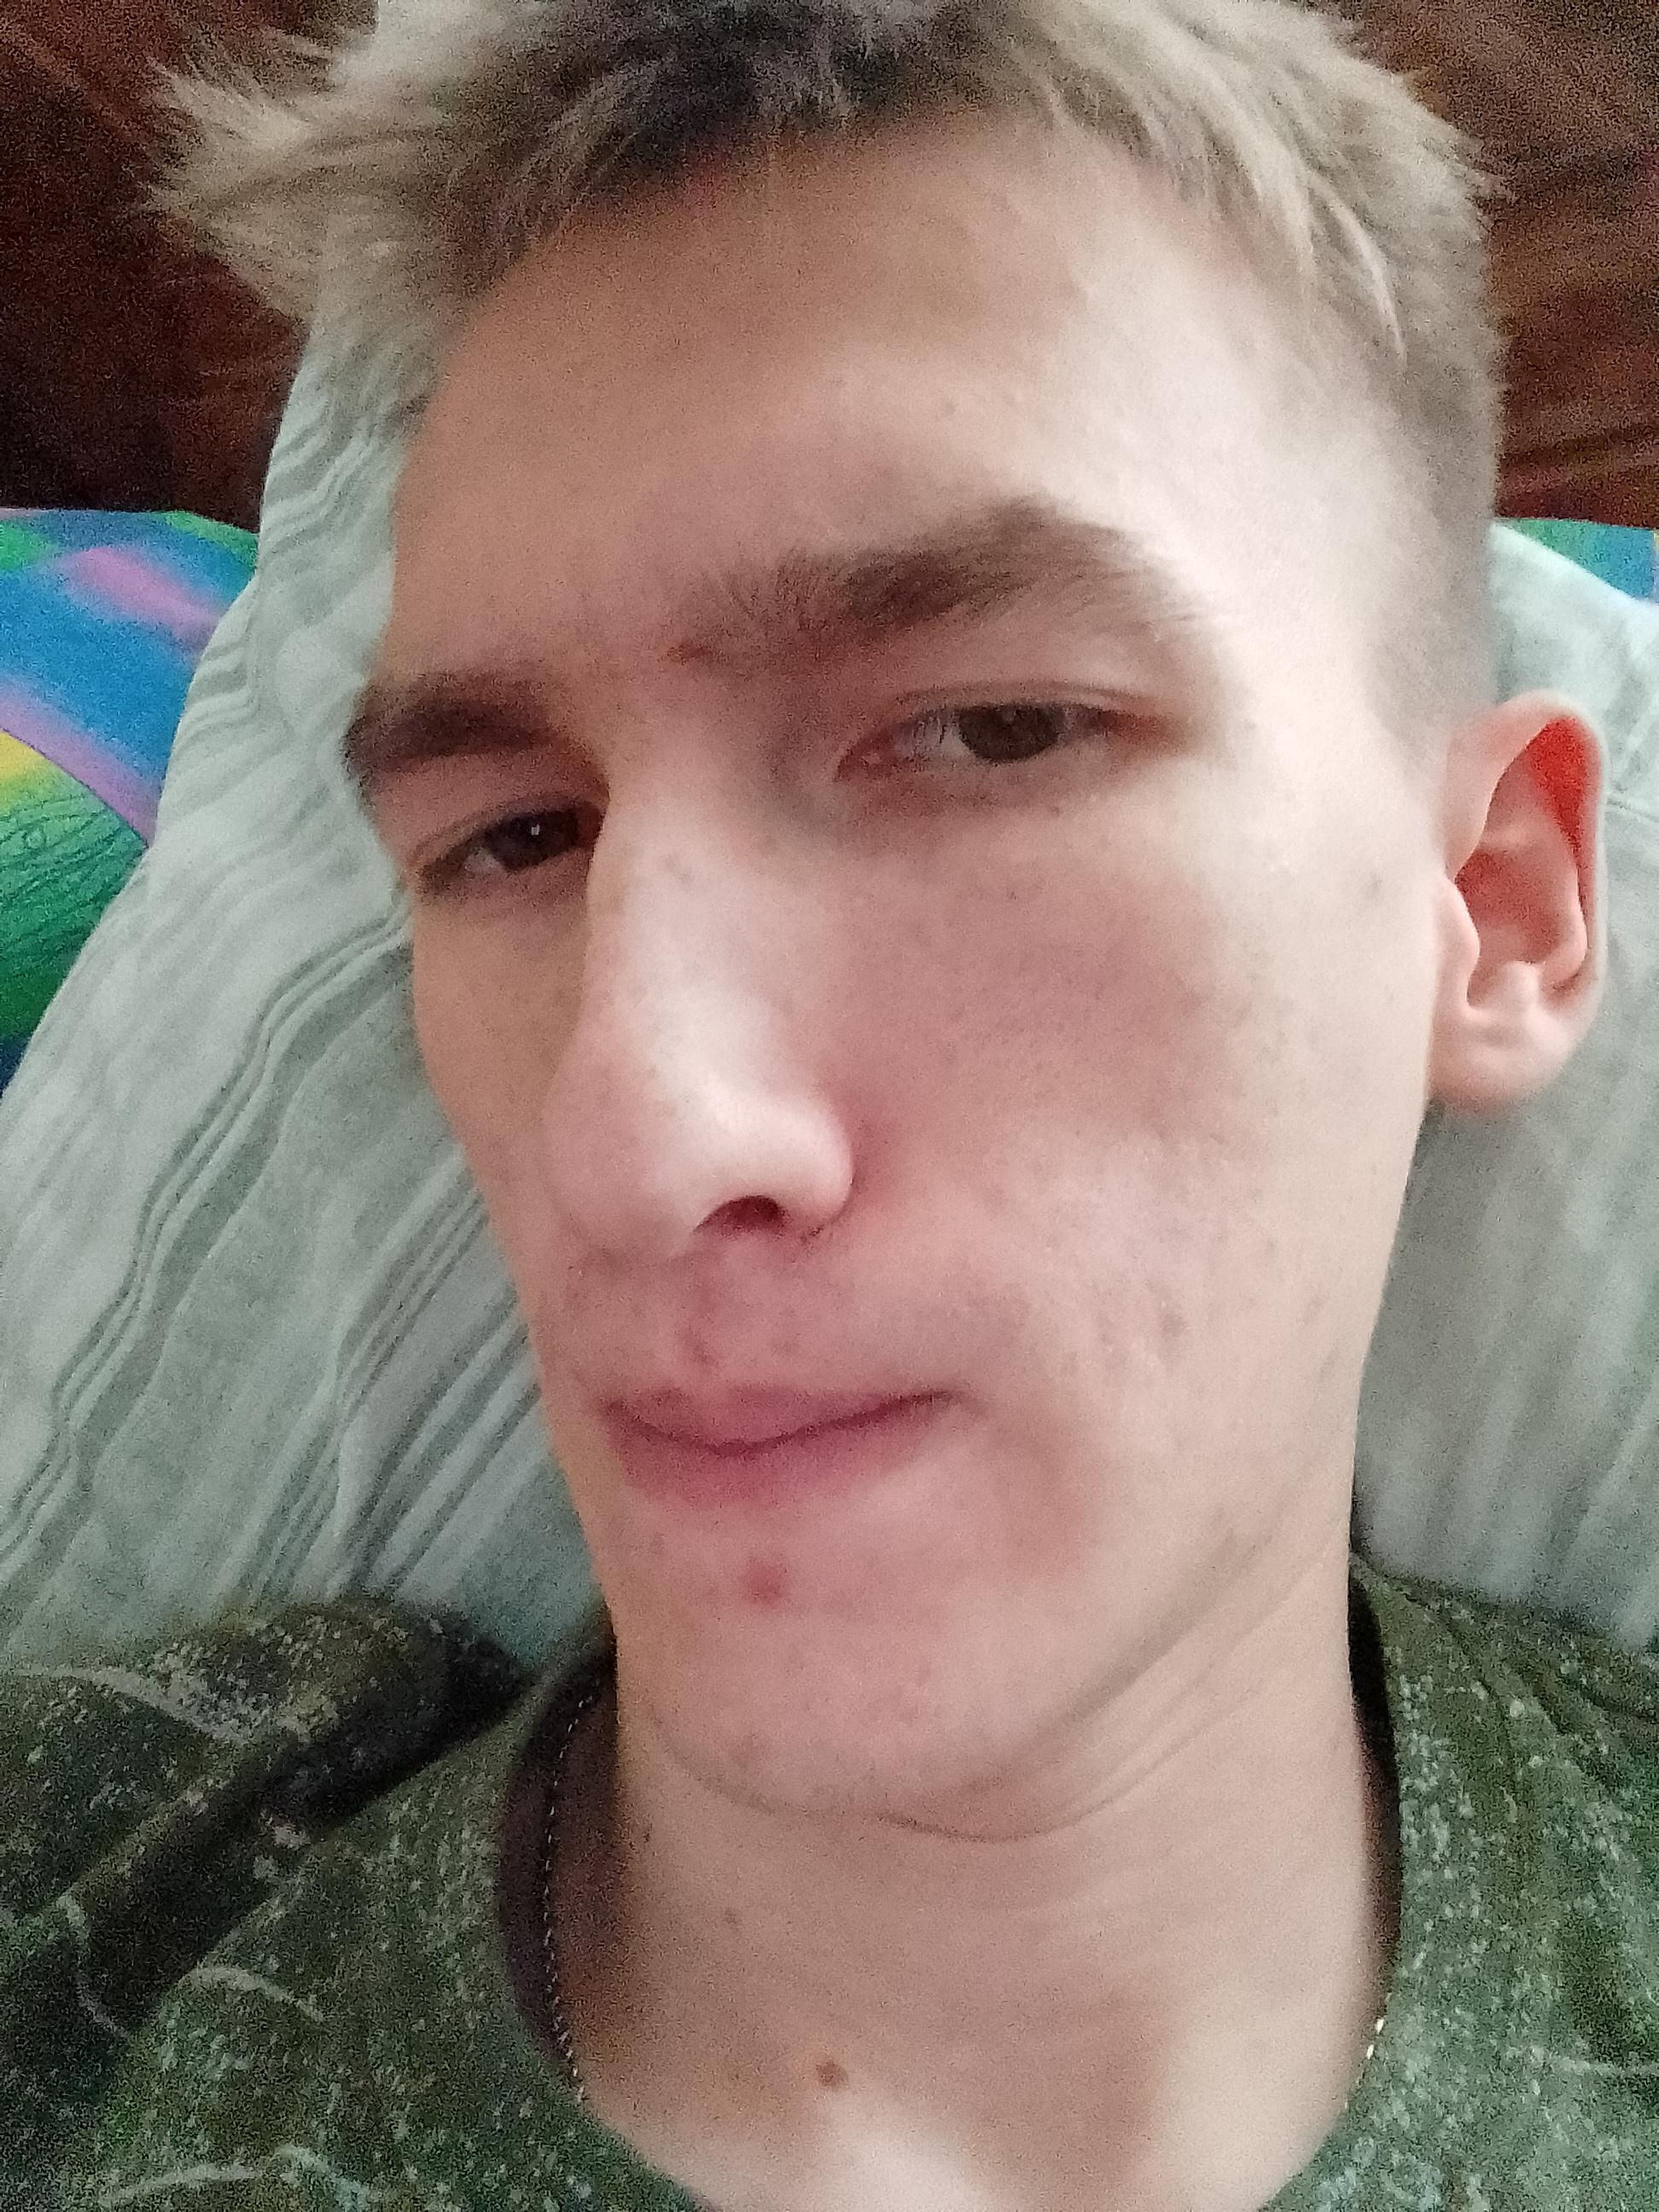Acne: (709, 1534, 800, 1618), (1140, 1284, 1192, 1369), (641, 627, 720, 679), (1188, 1500, 1239, 1566), (549, 1249, 596, 1318), (1284, 1275, 1340, 1332), (995, 178, 1049, 235), (725, 1724, 777, 1777), (673, 1322, 720, 1378), (1171, 965, 1218, 1010), (758, 1308, 805, 1353), (979, 1170, 1025, 1216), (1051, 273, 1098, 315), (1319, 1329, 1349, 1393), (1349, 859, 1382, 916), (1006, 381, 1030, 416), (643, 1522, 662, 1559)
